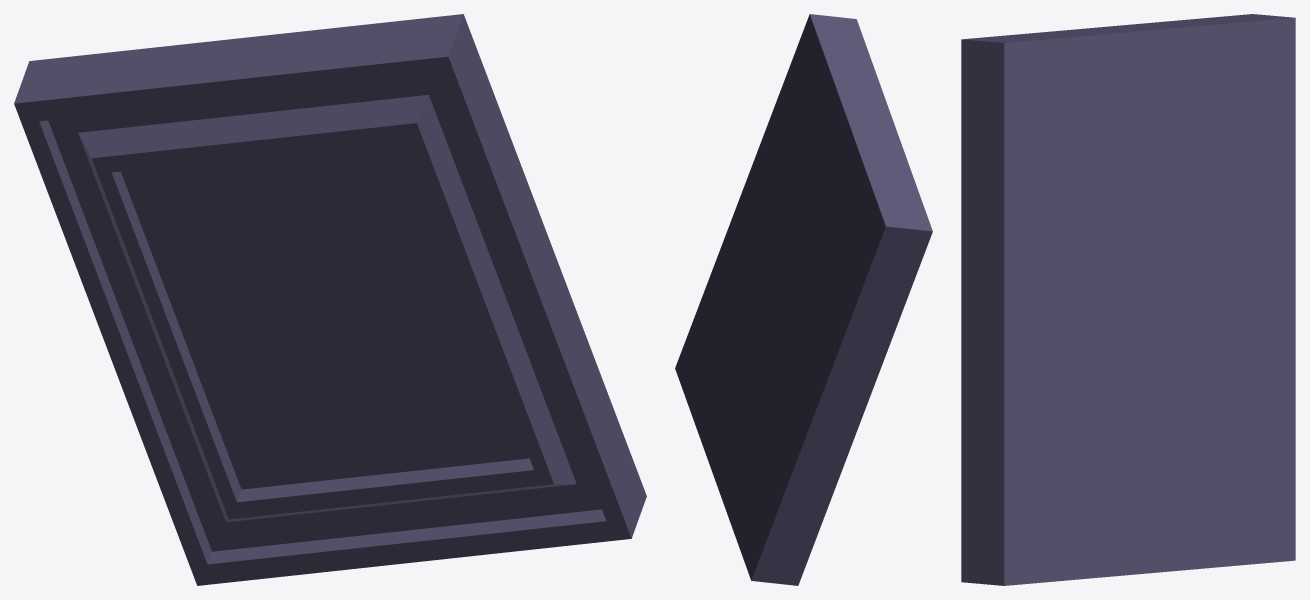
Rendered from AGVE_Painting1.fbx.
3 views of the same model, side by side, from view 1: azimuth 30°, elevation 25°; view 2: azimuth 150°, elevation 25°; view 3: azimuth 270°, elevation 25° (orthographic). The views are drawn at different scales.
Parts seen in each view (by area): view 1: Painting1; view 2: Painting1; view 3: Painting1.
Boxes of the visible parts, x1=… form: Painting1: x1=14, y1=14, x2=646, y2=585; Painting1: x1=675, y1=14, x2=932, y2=585; Painting1: x1=961, y1=14, x2=1295, y2=585.
Bounding box in the file's own units: 83.24 × 104 × 55.58.
